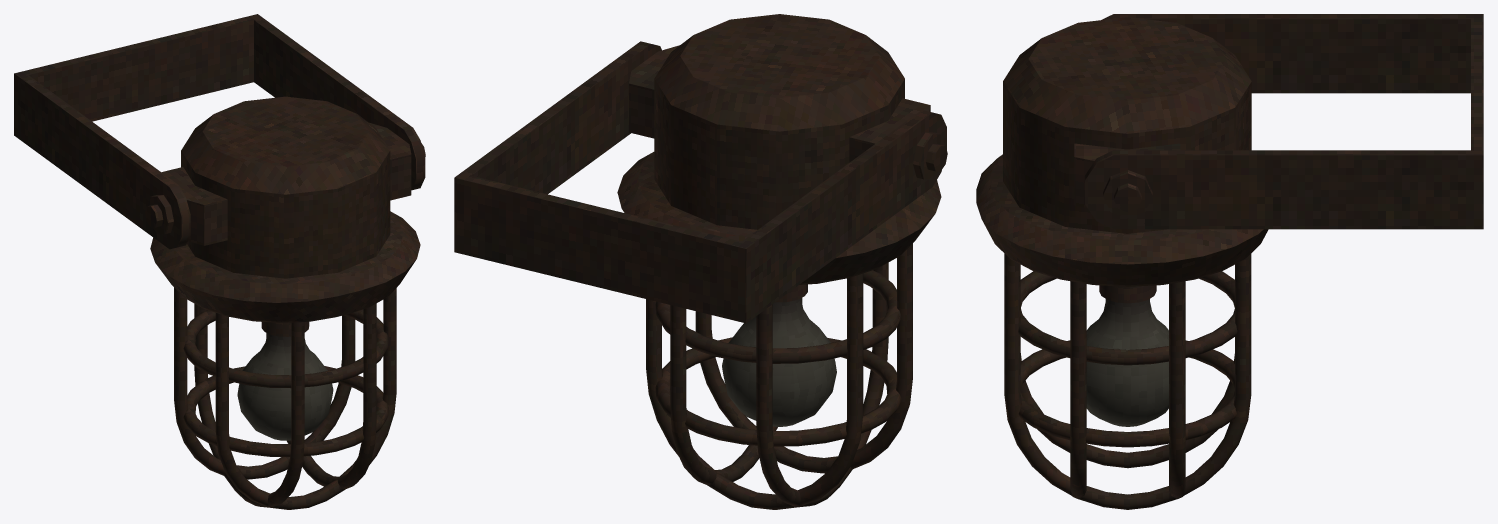
The model's file is lamp_mx_1_off.glb.
3 renders of one model, left to right at view 1: azimuth 30°, elevation 25°; view 2: azimuth 150°, elevation 25°; view 3: azimuth 270°, elevation 25°, orthographic. The views are drawn at different scales.
Parts seen in each view (by area): view 1: lamp_mx_1_off; view 2: lamp_mx_1_off; view 3: lamp_mx_1_off.
Part boxes in pixels (x1,y1,x2,y2): lamp_mx_1_off: [14, 14, 425, 509]; lamp_mx_1_off: [454, 14, 947, 509]; lamp_mx_1_off: [976, 14, 1483, 509].
Bounding box in the file's own units: 0.2245 × 0.288 × 0.308.
2 materials, 2 textured.
